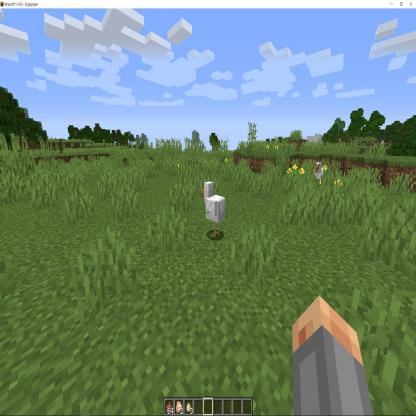minecraft-pigs: (200, 178, 229, 241), (314, 160, 326, 191)
